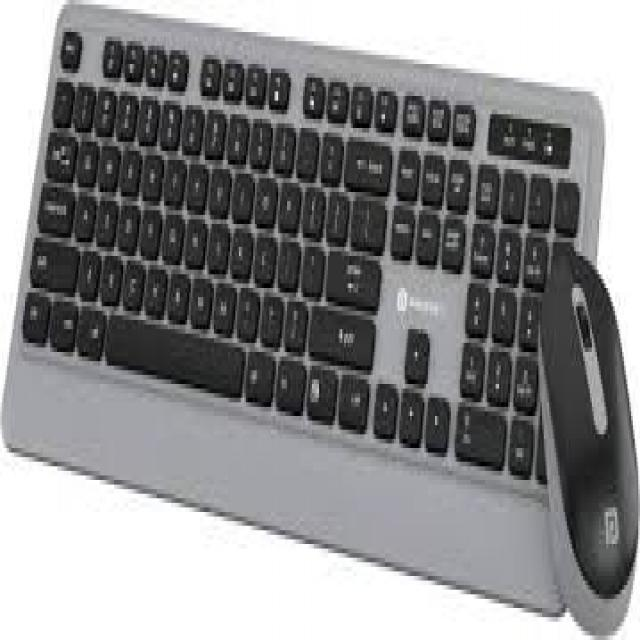others: (2, 5, 633, 617)
